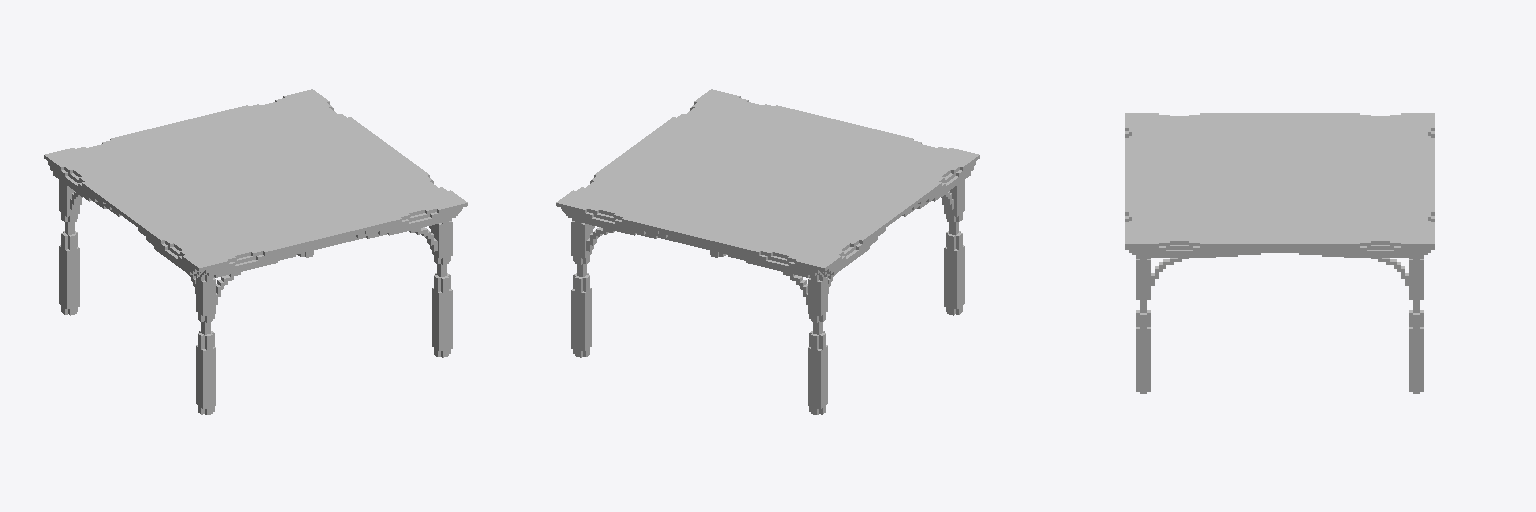
Rendered from table.obj.
The picture shows the model from 3 angles: view 1: azimuth 30°, elevation 25°; view 2: azimuth 150°, elevation 25°; view 3: azimuth 270°, elevation 25°; orthographic projection.
Parts seen in each view (by area): view 1: object 1; view 2: object 1; view 3: object 1.
Boxes of the visible parts, <box> form: object 1: <box>44,89,467,414</box>; object 1: <box>556,89,979,414</box>; object 1: <box>1125,113,1434,393</box>.
Bounding box in the file's own units: 8.2 × 4.5 × 8.2.